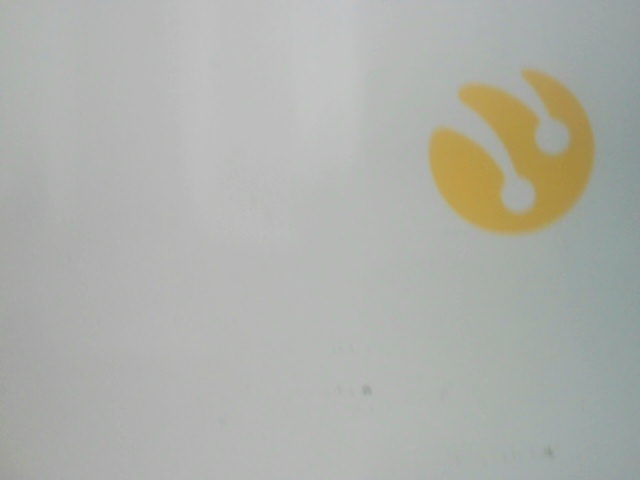AV_H3600Yellow: (410, 68, 603, 234)
